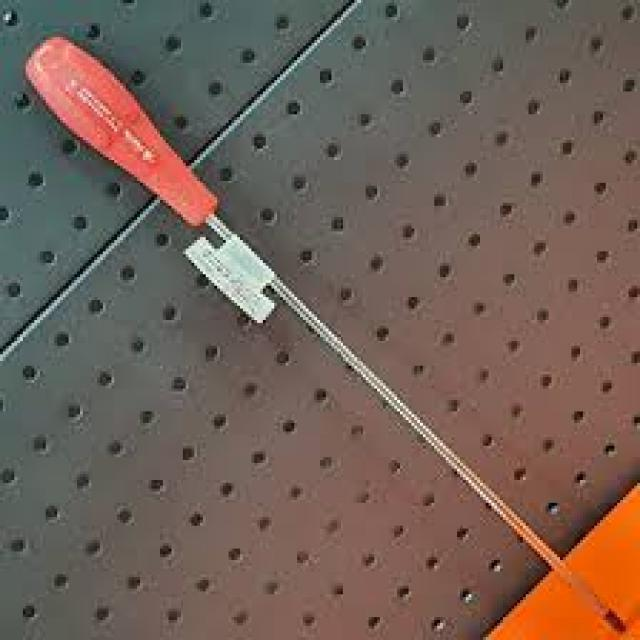screwdriver: (21, 32, 633, 638)
